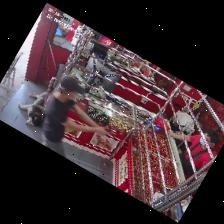person: (42, 77, 109, 157), (185, 135, 210, 170), (147, 61, 163, 72)
